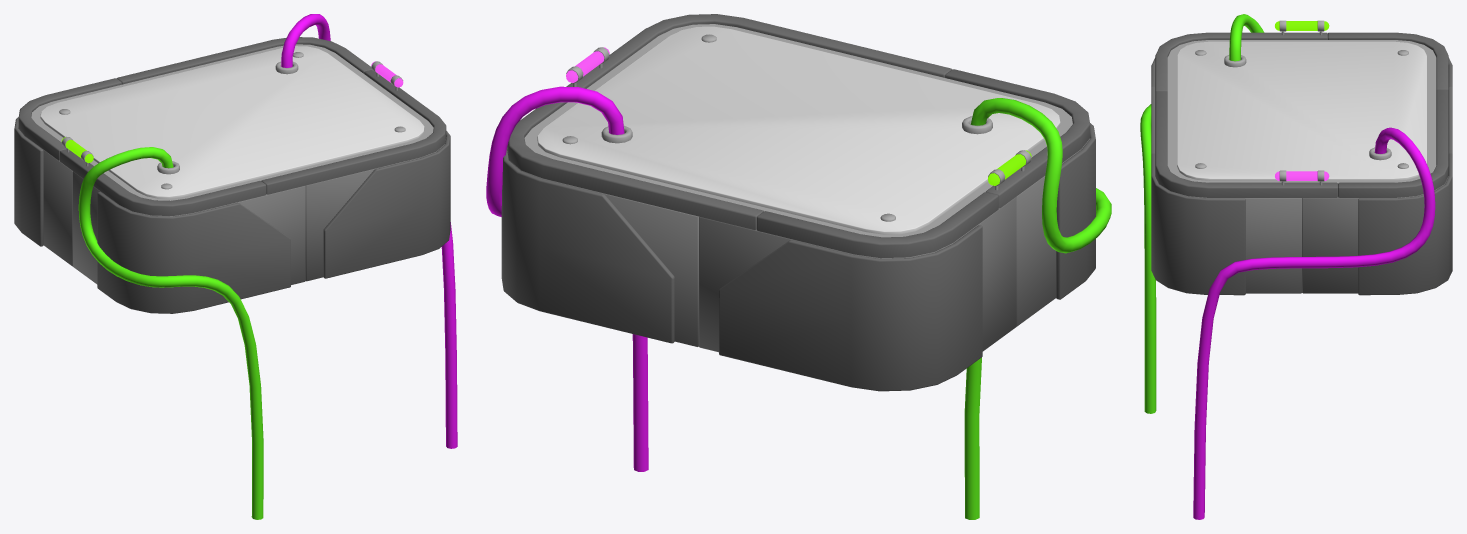
Rendered from Mezzanine_Floor1.fbx.
The picture shows the model from 3 angles, left to right: view 1: azimuth 30°, elevation 25°; view 2: azimuth 150°, elevation 25°; view 3: azimuth 270°, elevation 25°; orthographic projection. The views are drawn at different scales.
Visible parts, largest first — view 1: Mezzanine_Floor1, Mezzanine_BasePanels1, Mezzanine_FloorFrame1, Mezzanine_Base1, Mezzanine_Cable2, Mezzanine_Cable1, Mezzanine_Floor2; view 2: Mezzanine_Floor1, Mezzanine_BasePanels1, Mezzanine_FloorFrame1, Mezzanine_Base1, Mezzanine_Cable2, Mezzanine_Cable1, Mezzanine_Floor2, Mezzanine_SideLight2, Mezzanine_SideLight1; view 3: Mezzanine_Floor1, Mezzanine_BasePanels1, Mezzanine_FloorFrame1, Mezzanine_Base1, Mezzanine_Cable1, Mezzanine_Cable2, Mezzanine_Floor2, Mezzanine_SideLight2, Mezzanine_SideLight1.
Boxes of the visible parts, x1,y1,x2,y2 form: Mezzanine_Floor1: (40,46,424,198); Mezzanine_BasePanels1: (14,117,450,313); Mezzanine_FloorFrame1: (18,37,446,215); Mezzanine_Base1: (18,128,446,284); Mezzanine_Cable2: (78,147,263,519); Mezzanine_Cable1: (281,14,457,448); Mezzanine_Floor2: (31,44,433,200); Mezzanine_Floor1: (537,26,1060,234); Mezzanine_BasePanels1: (501,123,1095,391); Mezzanine_FloorFrame1: (507,14,1090,258); Mezzanine_Base1: (507,138,1090,352); Mezzanine_Cable2: (964,98,1111,519); Mezzanine_Cable1: (486,86,648,471); Mezzanine_Floor2: (524,24,1072,237); Mezzanine_SideLight2: (566,47,609,86); Mezzanine_SideLight1: (988,150,1031,190); Mezzanine_Floor1: (1177,41,1426,180); Mezzanine_BasePanels1: (1151,57,1452,295); Mezzanine_FloorFrame1: (1155,32,1448,197); Mezzanine_Base1: (1155,176,1448,293); Mezzanine_Cable1: (1193,127,1435,519); Mezzanine_Cable2: (1140,14,1264,413); Mezzanine_Floor2: (1167,40,1436,183); Mezzanine_SideLight2: (1275,170,1329,185); Mezzanine_SideLight1: (1275,20,1329,35).
Size of the model in its own units: 749 by 757 by 591.
